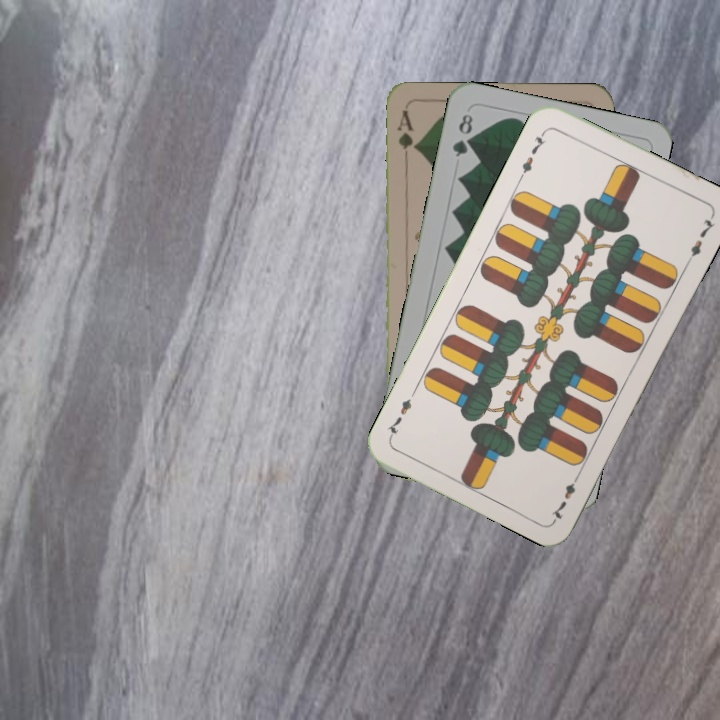E7: (547, 468, 584, 523), (515, 126, 549, 181)
G8: (448, 109, 476, 160)
GA: (393, 107, 420, 166)
